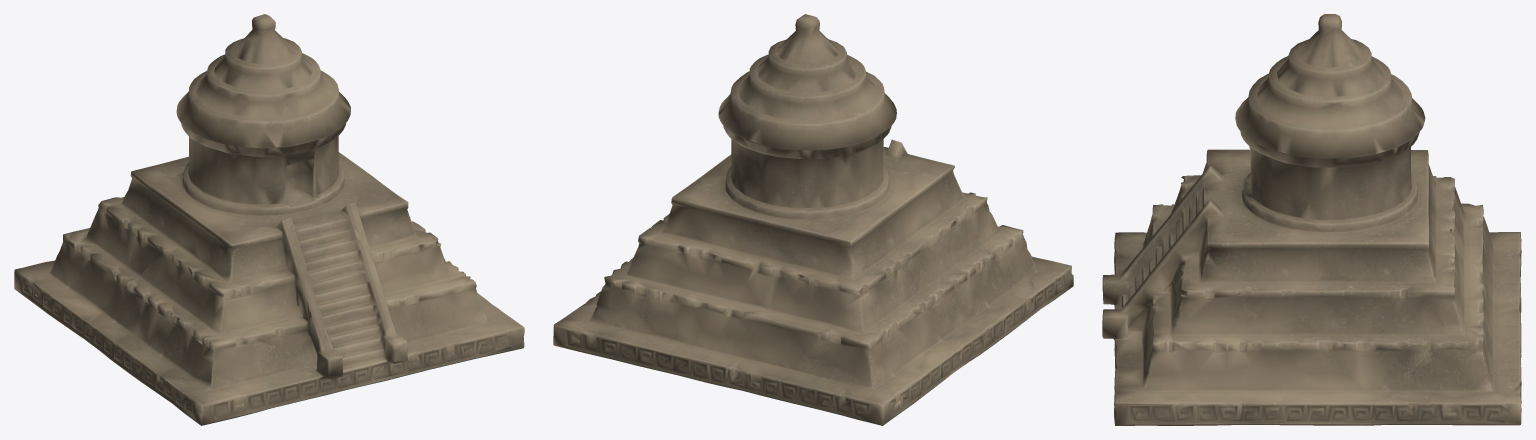
The model's file is round-temple-cantera.glb.
The picture shows the model from 3 angles, left to right: view 1: azimuth 30°, elevation 25°; view 2: azimuth 150°, elevation 25°; view 3: azimuth 270°, elevation 25°; orthographic projection. The views are drawn at different scales.
Visible parts, largest first — view 1: round_temple; view 2: round_temple; view 3: round_temple.
Part boxes in pixels (<box>): round_temple: <box>14,14,524,425</box>; round_temple: <box>553,14,1073,425</box>; round_temple: <box>1102,14,1521,425</box>.
Bounding box in the file's own units: 1.01 × 0.8813 × 1.03.
1 material, 1 textured.
